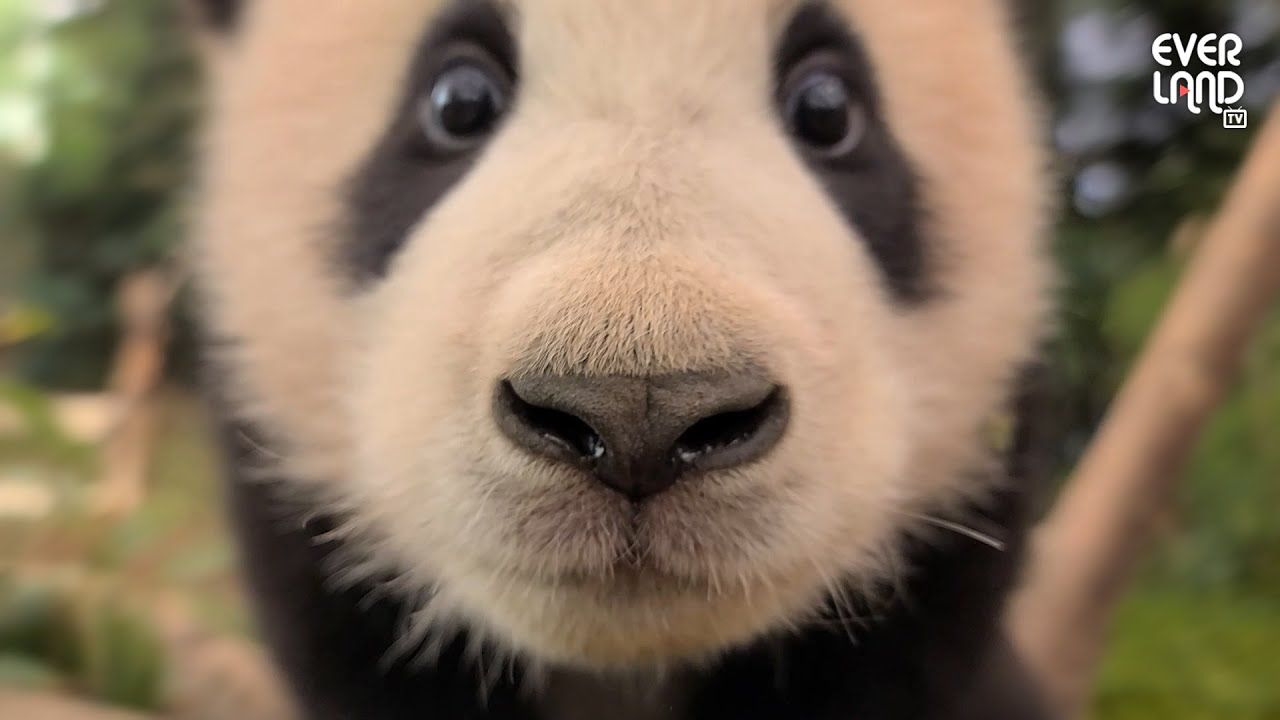panda: (162, 0, 1067, 680)
